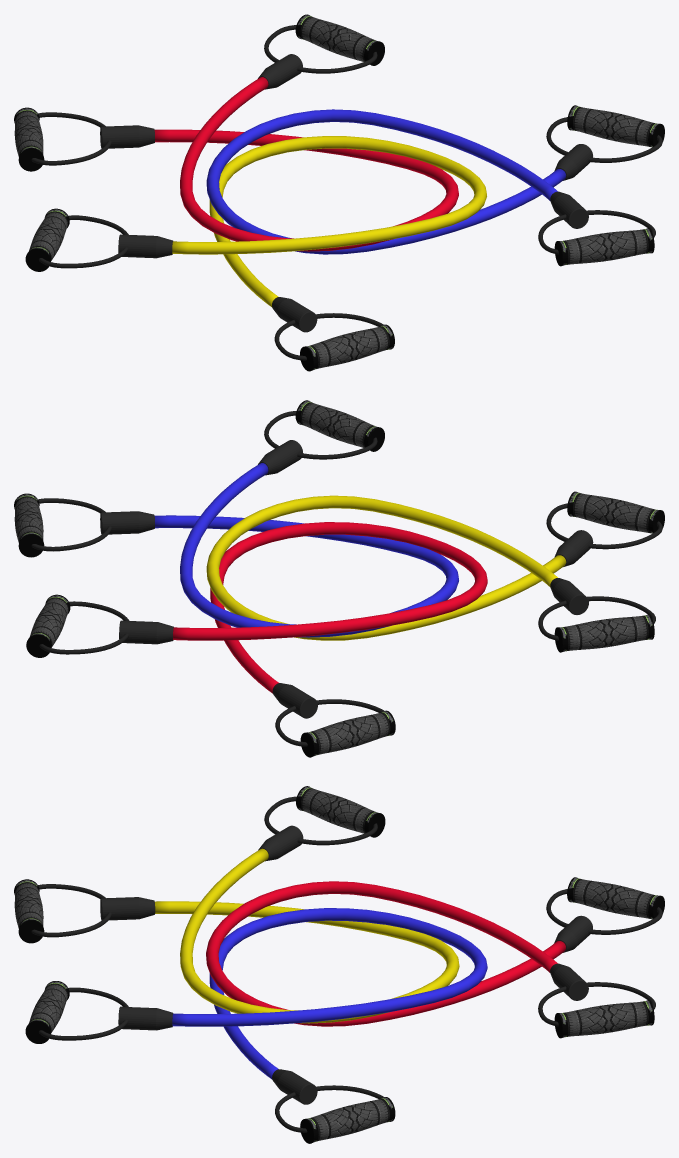
Rendered from rubberTube.glb.
3 renders of one model, top to bottom at view 1: azimuth 30°, elevation 25°; view 2: azimuth 150°, elevation 25°; view 3: azimuth 270°, elevation 25°, orthographic.
Parts seen in each view (by area): view 1: yellow, blue, red, gripB2, gripB1, gripY1, gripR2, gripY2, gripR1, rubberR1, rubberY2, rubberY1 (+9 smaller); view 2: red, yellow, blue, gripY2, gripY1, gripR1, gripB2, gripR2, gripB1, rubberB1, rubberR2, rubberR1 (+9 smaller); view 3: blue, red, yellow, gripR2, gripR1, gripB1, gripY2, gripB2, gripY1, rubberY1, rubberB2, rubberB1 (+9 smaller).
Part boxes in pixels (x1,y1,x2,y2): yellow: (172, 136, 486, 306); blue: (206, 109, 566, 254); red: (154, 77, 458, 251); gripB2: (554, 228, 654, 266); gripB1: (567, 105, 664, 147); gripY1: (300, 324, 394, 371); gripR2: (295, 14, 384, 65); gripY2: (25, 208, 69, 271); gripR1: (14, 107, 44, 171); rubberR1: (100, 125, 154, 148); rubberY2: (118, 234, 172, 258); rubberY1: (272, 297, 317, 332); red: (173, 522, 487, 693); yellow: (206, 495, 566, 640); blue: (154, 463, 458, 637); gripY2: (554, 614, 654, 652); gripY1: (567, 491, 664, 533); gripR1: (300, 710, 395, 757); gripB2: (295, 400, 384, 451); gripR2: (26, 594, 70, 657); gripB1: (14, 493, 44, 557); rubberB1: (100, 511, 154, 534); rubberR2: (119, 620, 173, 644); rubberR1: (272, 683, 317, 718); blue: (172, 908, 487, 1079); red: (206, 881, 565, 1026); yellow: (155, 848, 459, 1023); gripR2: (554, 1000, 654, 1038); gripR1: (567, 877, 664, 919); gripB1: (300, 1097, 395, 1143); gripY2: (296, 786, 385, 837); gripB2: (25, 981, 69, 1043); gripY1: (14, 879, 44, 943); rubberY1: (100, 897, 155, 920); rubberB2: (118, 1006, 173, 1030); rubberB1: (272, 1069, 317, 1104).
Bounding box in the file's own units: 4.62 × 0.376 × 4.07.
7 materials, 2 textured.
